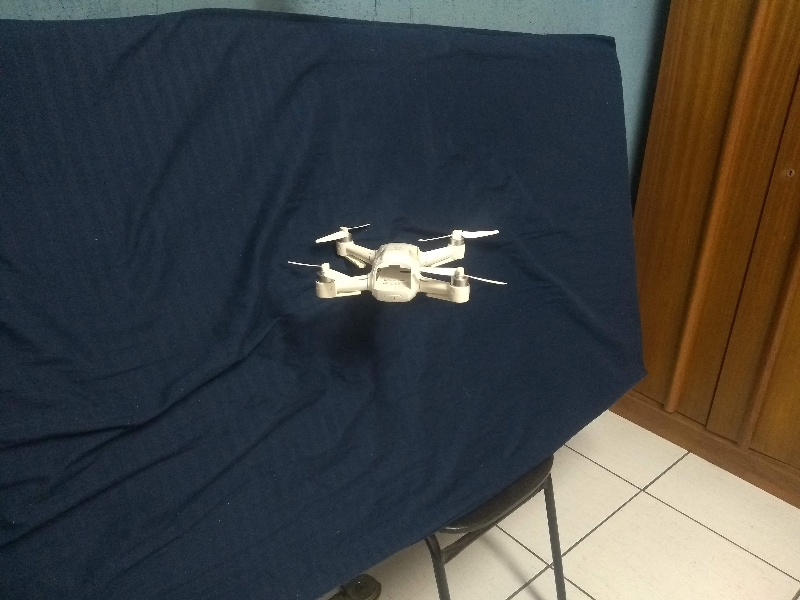drone: (292, 210, 510, 307)
